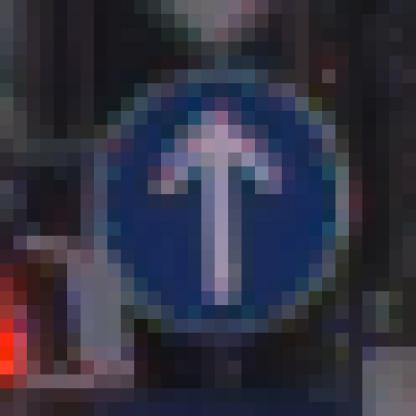AheadOnly: (81, 70, 350, 348)
